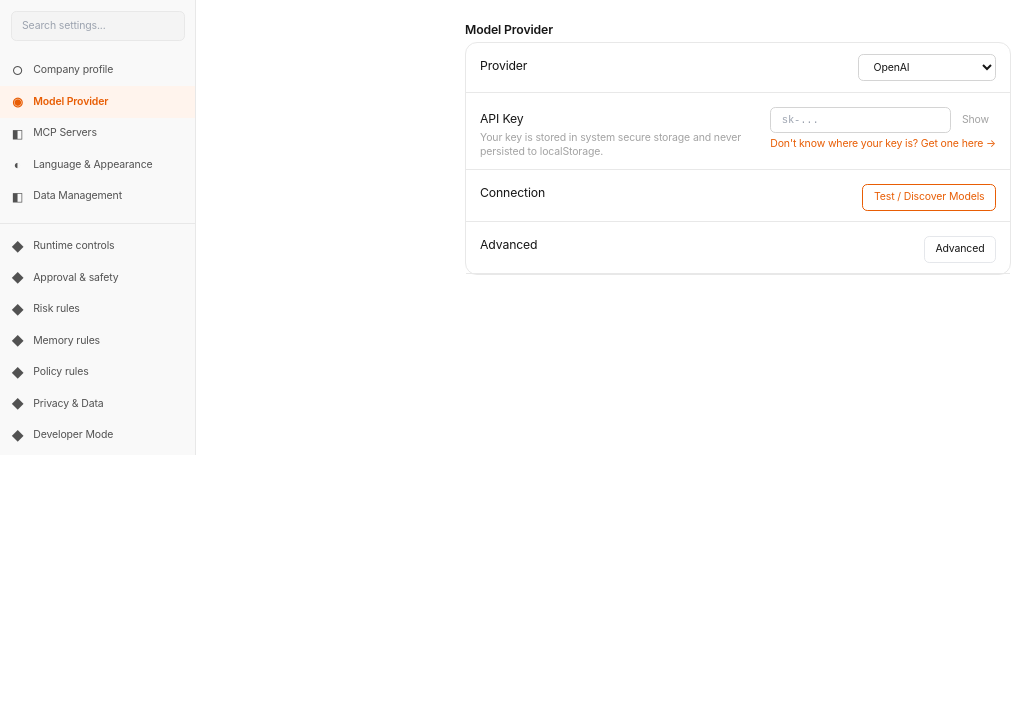
Desktop onboarding › Model Provider hides advanced transport and token fields by default
This screenshot has width=1028, height=709.
Expected: the text "Base URL" is not shown
Expected: the text "Max Tokens" is not shown
Click the button "Advanced" at (960, 249), box left=924, top=236, right=996, bottom=263
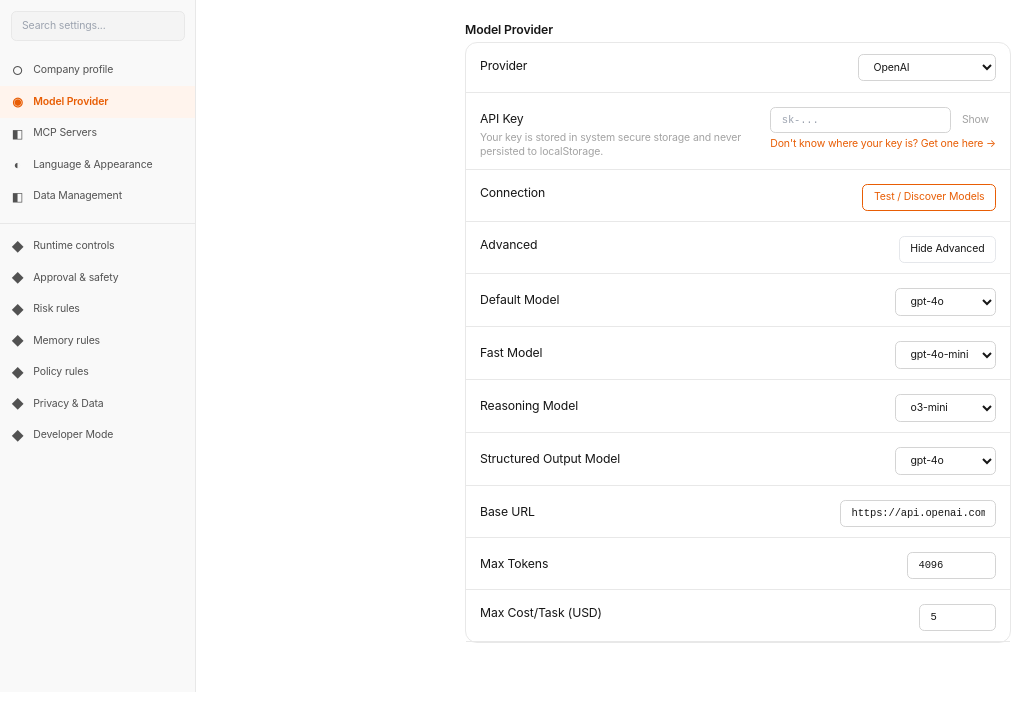
Now the text "Base URL" is shown, box left=480, top=504, right=535, bottom=519
Now the text "Max Tokens" is shown, box left=480, top=556, right=548, bottom=571
